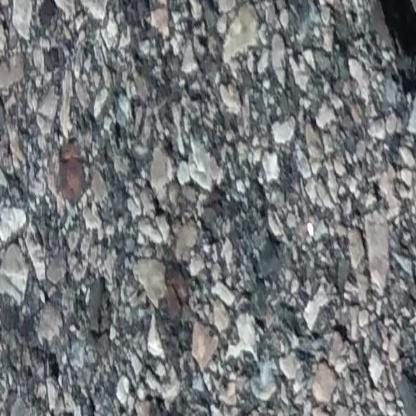Cracks: (372, 0, 416, 141)
